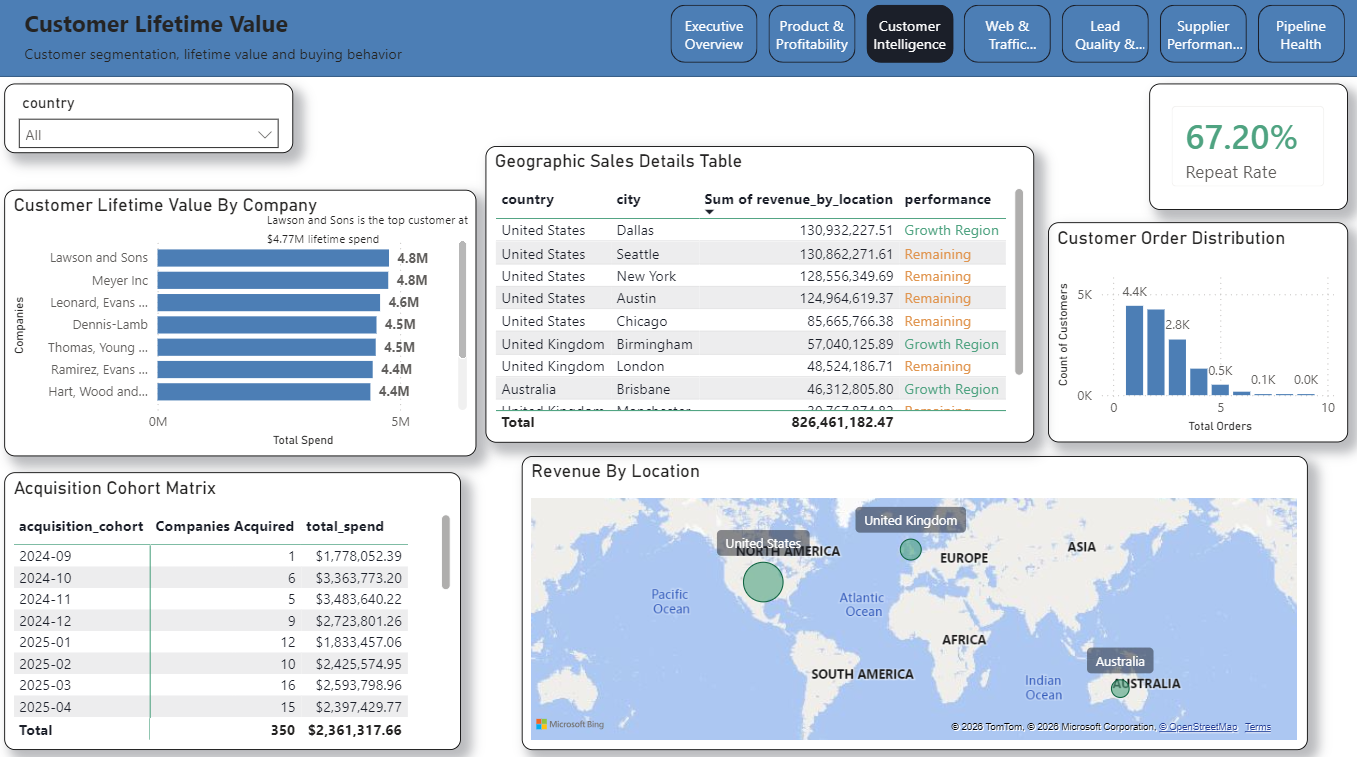

This screenshot's page, from the dashboard's own definition file:
{"tool":"powerbi","page":{"name":"Customer Intelligence","canvas":[1280,720],"ordinal":2},"visuals":[{"type":"shape","box":[0,0,1280,80],"z":0},{"type":"barChart","title":"Customer Lifetime Value By Company","fields":{"Category":["marts vw_customer_lifetime_value.company_name"],"Y":["Sum(marts vw_customer_lifetime_value.total_spend)"]},"box":[10.5,184.9,439.5,247.7],"z":1000},{"type":"pivotTable","title":"Acquisition Cohort Matrix","fields":{"Rows":["marts vw_customer_lifetime_value.acquisition_cohort"],"Values":["CountNonNull(marts vw_customer_lifetime_value.company_name)","Avg(marts vw_customer_lifetime_value.total_spend)"]},"box":[10.5,447.7,424.4,258.1],"z":2000},{"type":"cardVisual","fields":{"Data":["Measure.Repeat Rate"]},"box":[1075.6,86,184.9,117.4],"z":3000},{"type":"clusteredColumnChart","title":"Customer Order Distribution","fields":{"Category":["marts vw_customer_activity.total_orders (bins)"],"Y":["CountNonNull(marts vw_customer_activity.customer_key)"]},"box":[981.4,215.1,279.1,204.7],"z":4000},{"type":"map","title":"Revenue By Location","fields":{"Category":["marts vw_geographic_sales.country","marts vw_geographic_sales.city"],"Size":["Sum(marts vw_geographic_sales.revenue_by_location)"]},"box":[491.9,432.6,731.4,273.3],"z":5000},{"type":"tableEx","title":"Geographic Sales Details Table","fields":{"Values":["marts vw_geographic_sales.country","marts vw_geographic_sales.city","Sum(marts vw_geographic_sales.revenue_by_location)","marts vw_geographic_sales.performance"]},"box":[458.1,144.2,510.3,275.6],"z":6000},{"type":"textbox","box":[24.4,10.5,564,41.9],"z":7000},{"type":"textbox","box":[24.4,44.2,550,36],"z":8000},{"type":"pageNavigator","box":[630.2,12.8,630.2,54.7],"z":9000},{"type":"textbox","box":[250,197.7,200,48.8],"z":10000},{"type":"slicer","fields":{"Values":["marts vw_customer_lifetime_value.country"]},"box":[10.5,86,269,64.9],"z":11000}]}

Visuals, with their boxes in screenshot pixels (x1, y1, x2, y2), scaled from the page's 1280x720 canvas onto the 1357x757 screenshot:
shape: bbox=(0, 0, 1356, 84)
"Customer Lifetime Value By Company" barChart: bbox=(11, 194, 477, 455)
"Acquisition Cohort Matrix" pivotTable: bbox=(11, 471, 461, 742)
cardVisual - Measure.Repeat Rate: bbox=(1140, 90, 1336, 214)
"Customer Order Distribution" clusteredColumnChart: bbox=(1040, 226, 1336, 441)
"Revenue By Location" map: bbox=(521, 455, 1297, 742)
"Geographic Sales Details Table" tableEx: bbox=(486, 152, 1027, 441)
textbox: bbox=(26, 11, 624, 55)
textbox: bbox=(26, 46, 609, 84)
pageNavigator: bbox=(668, 13, 1336, 71)
textbox: bbox=(265, 208, 477, 259)
slicer - marts vw_customer_lifetime_value.country: bbox=(11, 90, 296, 159)
